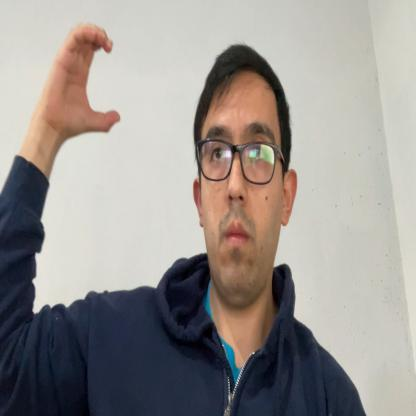C: (48, 22, 121, 136)
